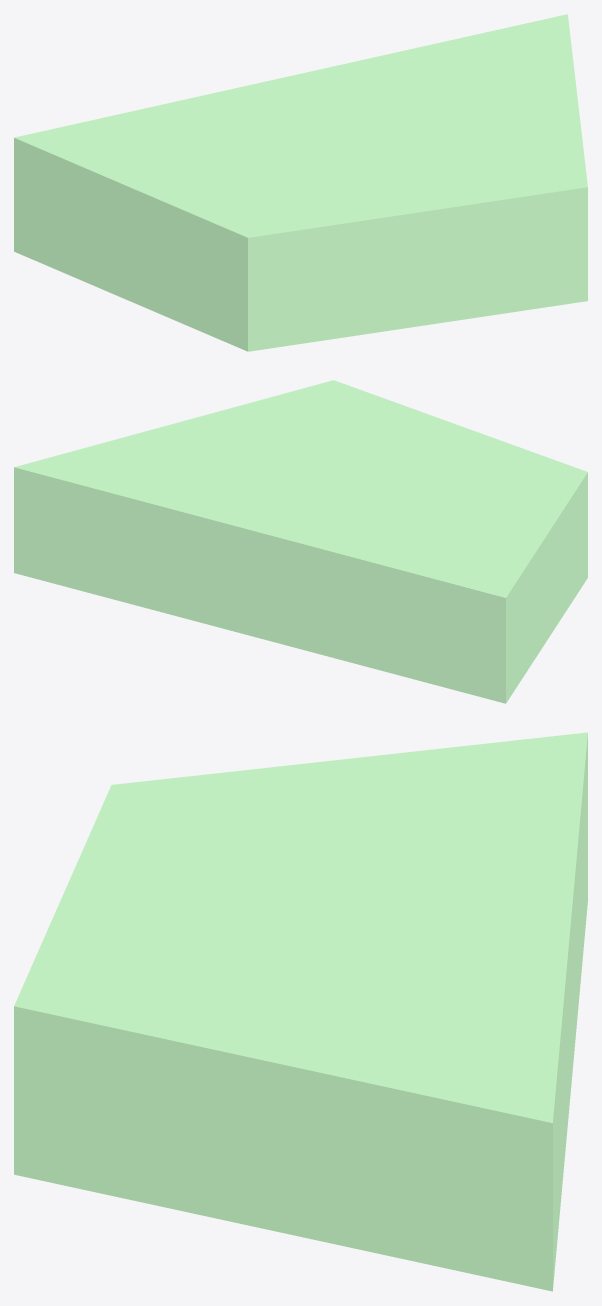
3 views of the same model, one above another, from view 1: azimuth 30°, elevation 25°; view 2: azimuth 150°, elevation 25°; view 3: azimuth 270°, elevation 25° (orthographic). The views are drawn at different scales.
Bounding box in the file's own units: 4.98 × 1 × 3.09.
